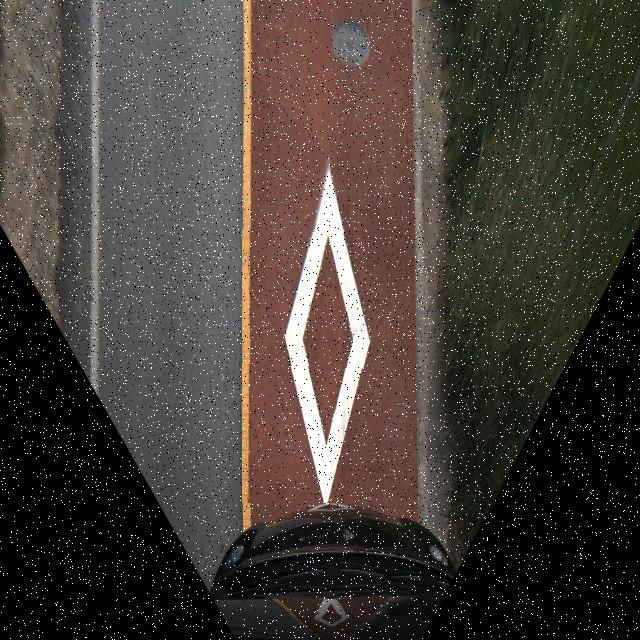diamond: (242, 161, 410, 503)
